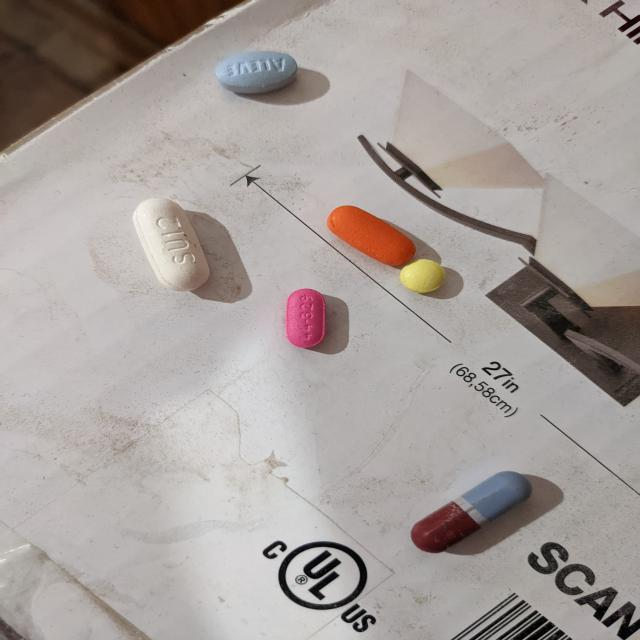non-organic waste: (409, 470, 534, 554), (130, 196, 212, 292), (325, 204, 418, 268), (213, 50, 300, 95), (284, 287, 327, 349), (398, 258, 448, 294)
